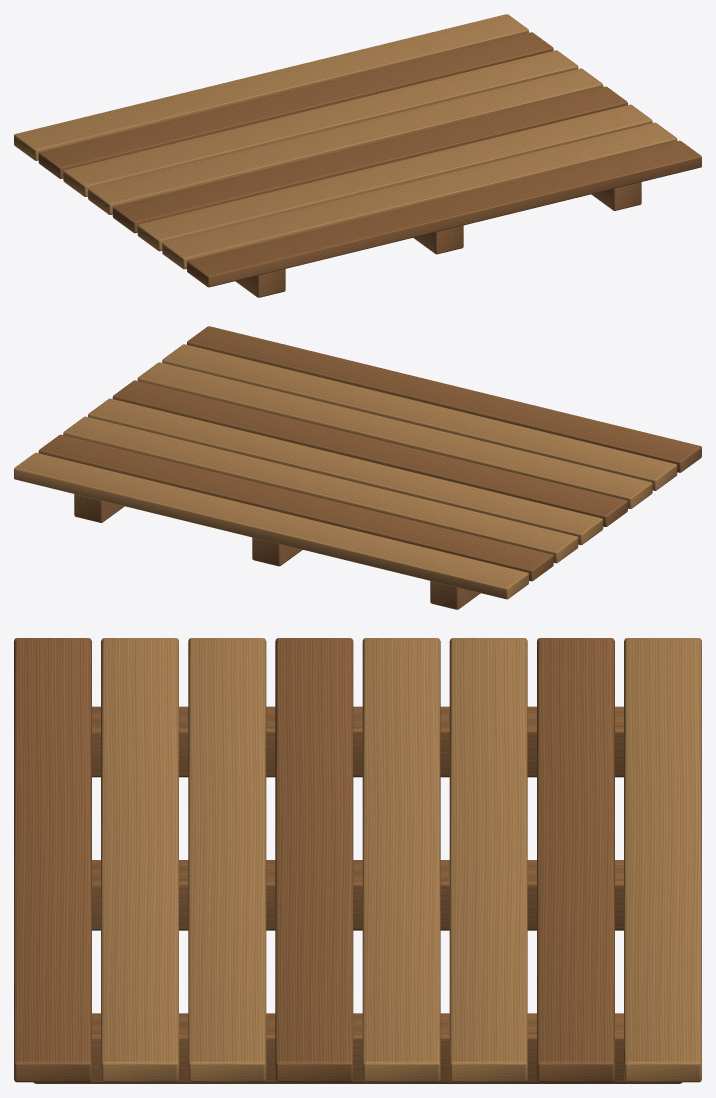
File: WashPlatform.fbx
The picture shows the model from 3 angles, top to bottom: view 1: azimuth 30°, elevation 25°; view 2: azimuth 150°, elevation 25°; view 3: azimuth 270°, elevation 25°; orthographic projection. The views are drawn at different scales.
Visible parts, largest first — view 1: WashPlatform_Mesh; view 2: WashPlatform_Mesh; view 3: WashPlatform_Mesh.
Boxes of the visible parts, <box> form: WashPlatform_Mesh: <box>14,14,701,297</box>; WashPlatform_Mesh: <box>14,326,701,609</box>; WashPlatform_Mesh: <box>14,638,701,1083</box>.
Bounding box in the file's own units: 1.3 × 0.1 × 0.888.
Materials: 1 (1 with a texture image).
